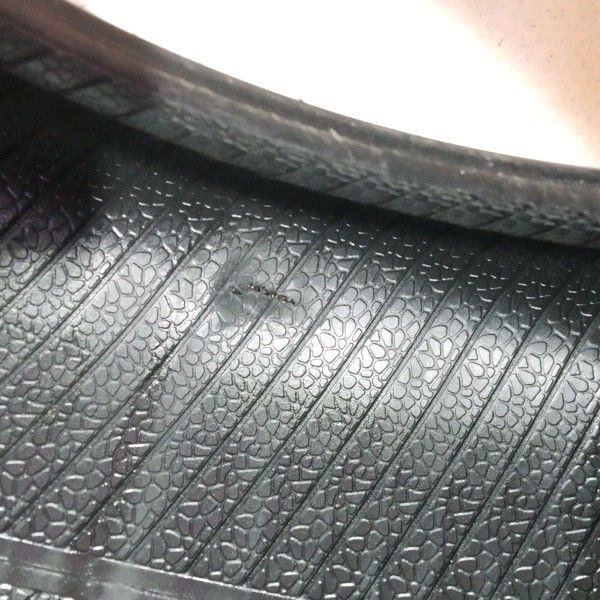CBU: (218, 273, 300, 308)
